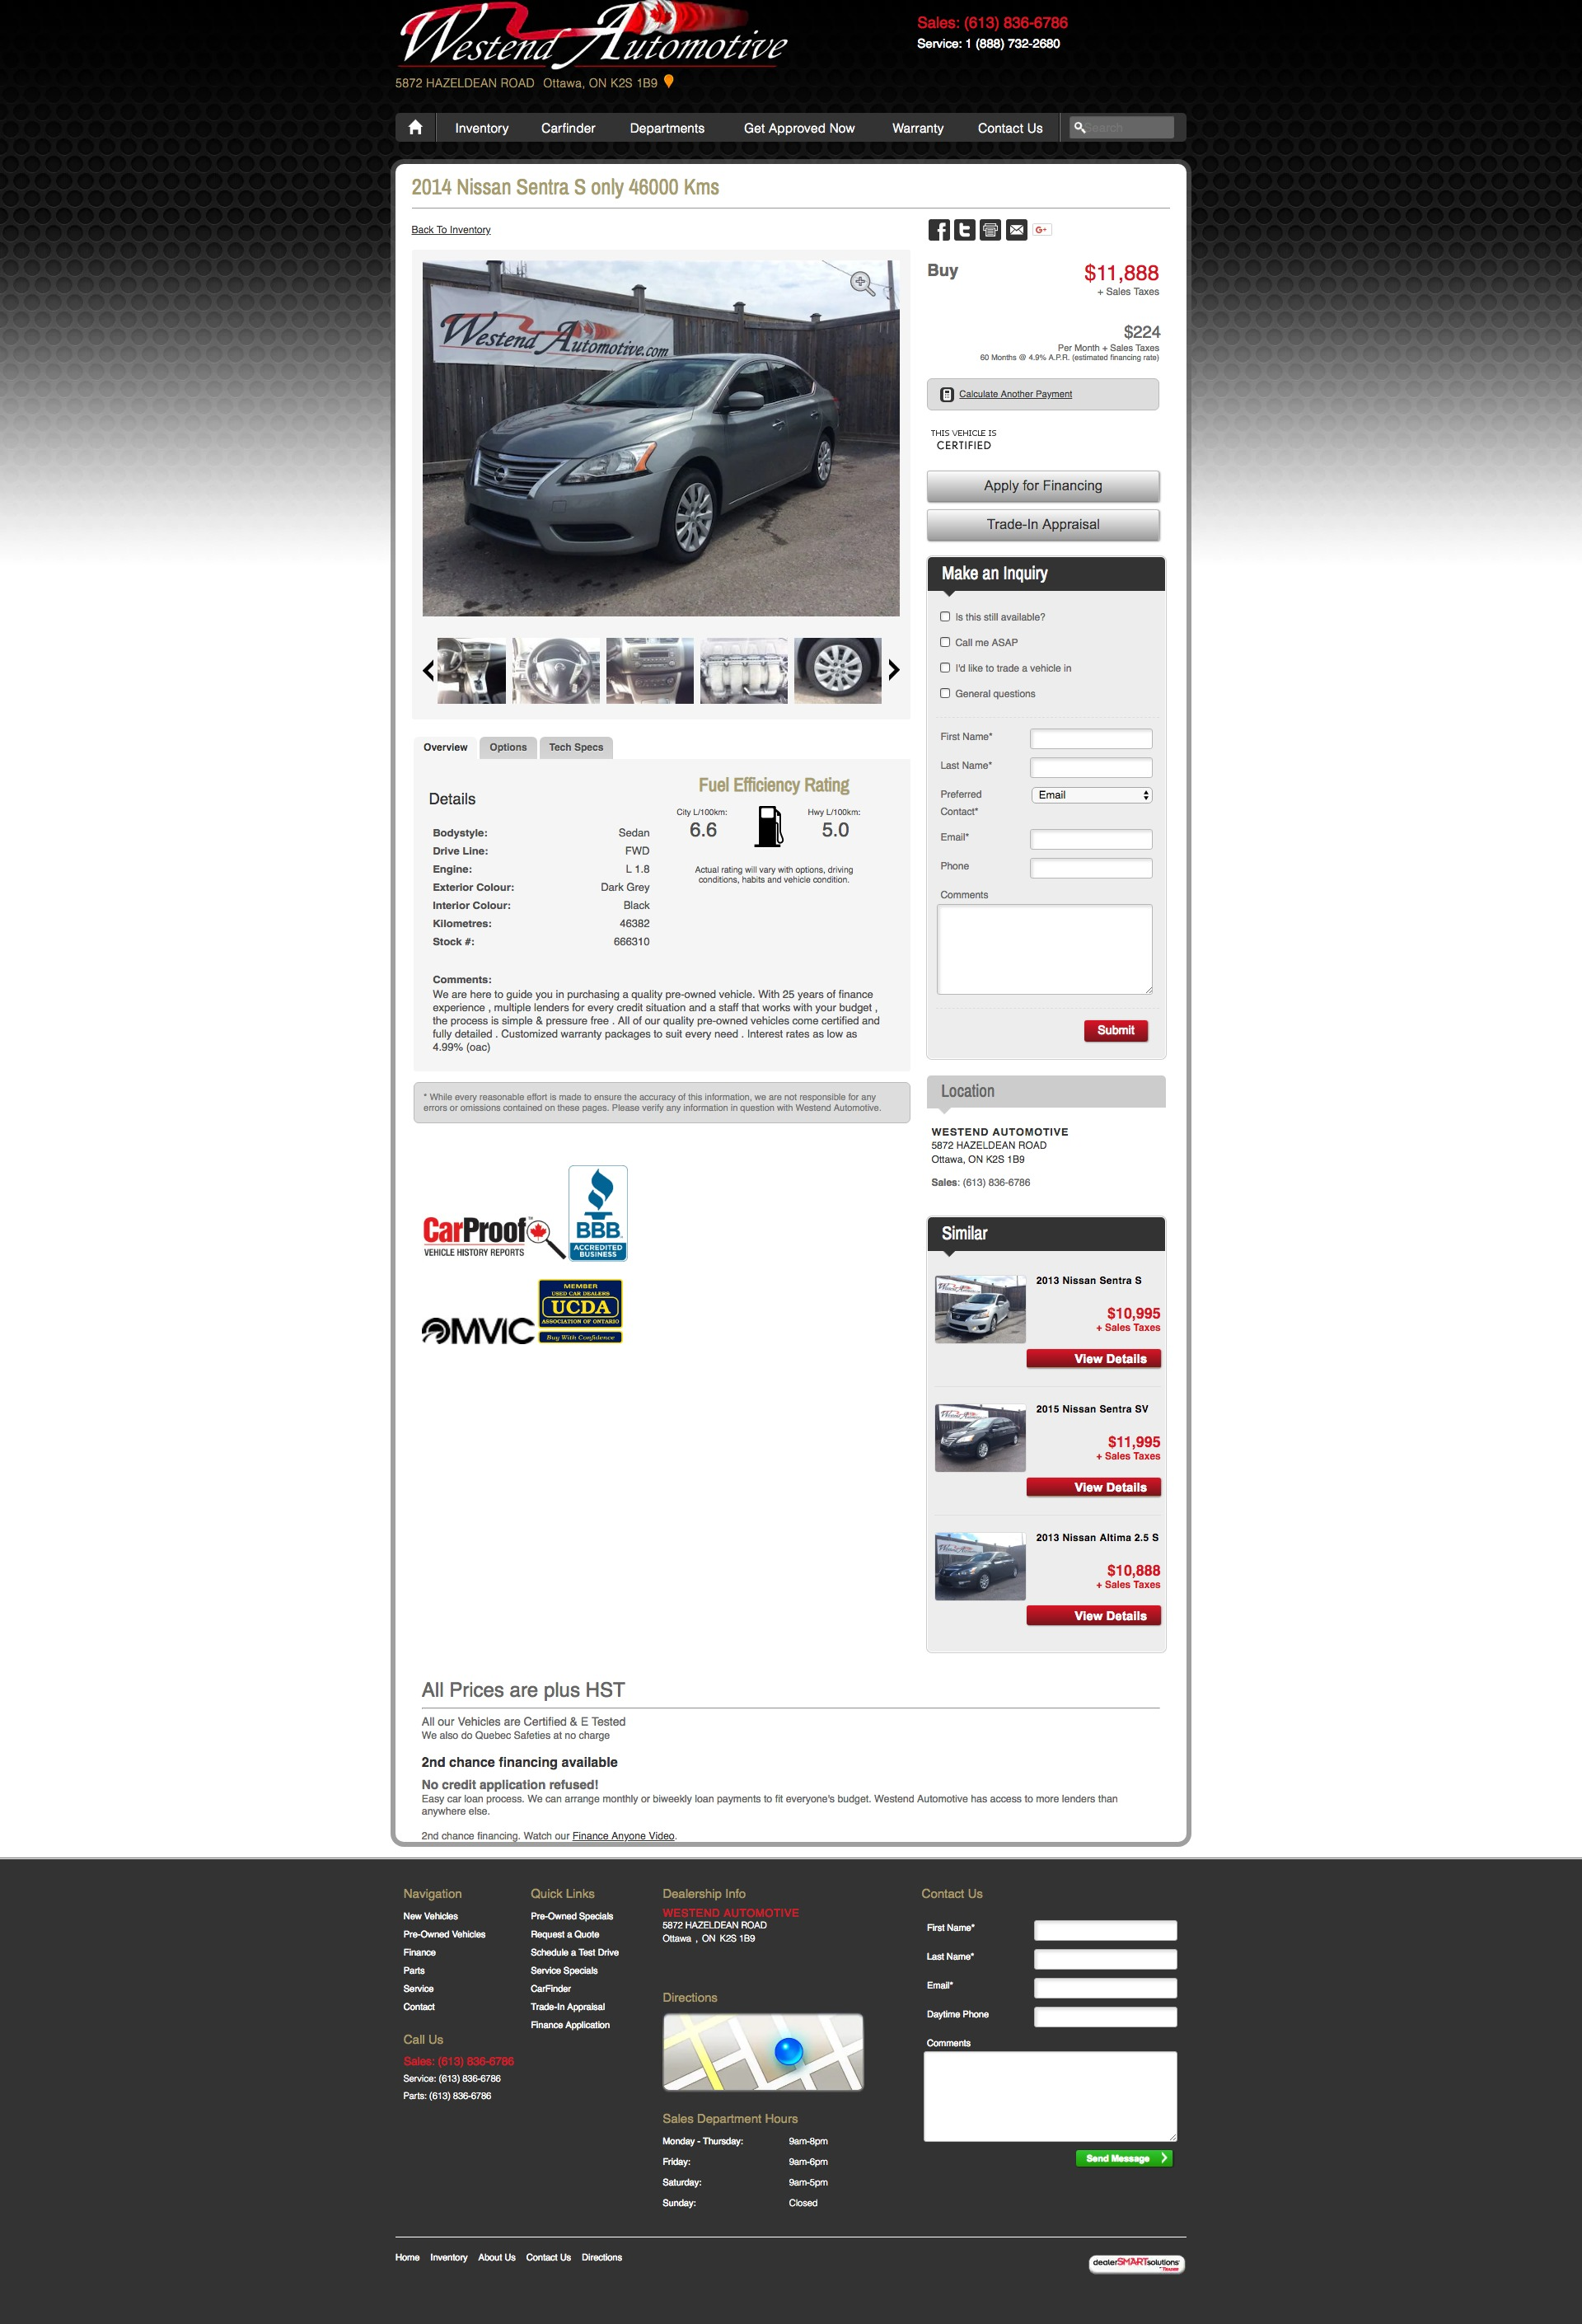car: (886, 659, 902, 682)
